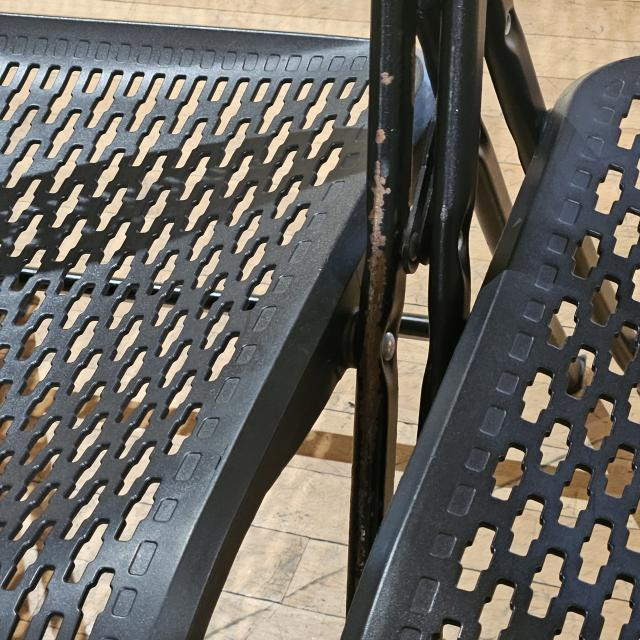Filiform Corrosion: (365, 159, 387, 420), (375, 68, 401, 93), (371, 126, 391, 150)
